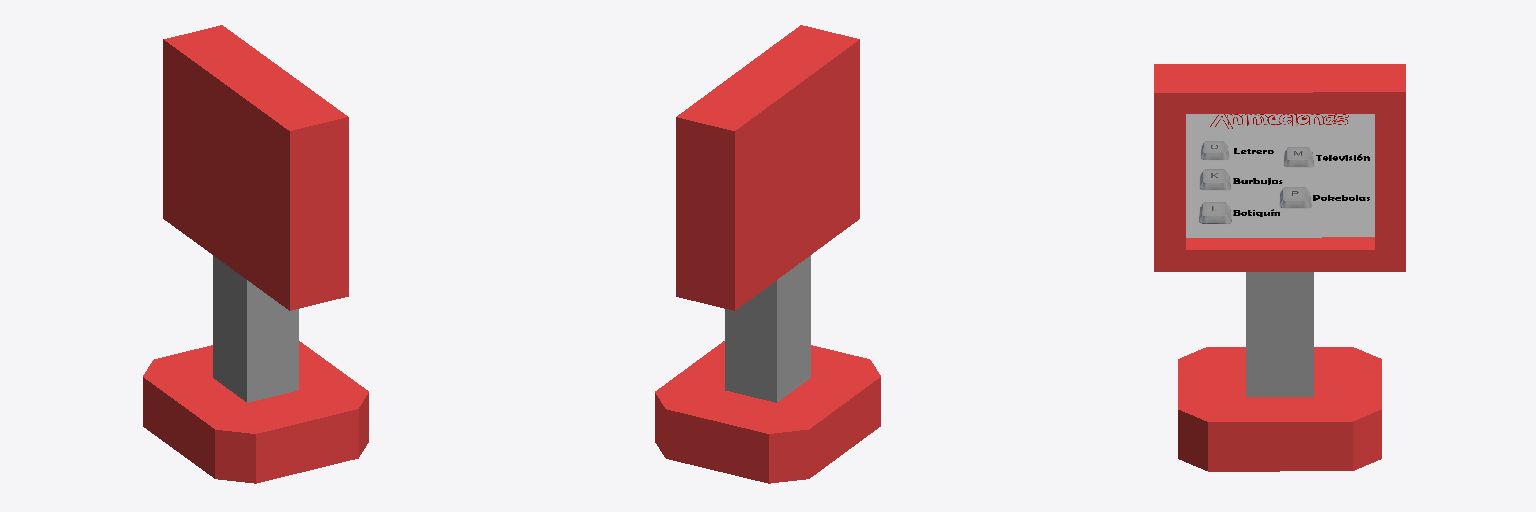
3 renders of one model, left to right at view 1: azimuth 30°, elevation 25°; view 2: azimuth 150°, elevation 25°; view 3: azimuth 270°, elevation 25°, orthographic.
Visible parts, largest first — view 1: pokeLetrero:pCube3; view 2: pokeLetrero:pCube3; view 3: pokeLetrero:pCube3.
Boxes of the visible parts, x1,y1,x2,y2 form: pokeLetrero:pCube3: [143, 25, 368, 483]; pokeLetrero:pCube3: [655, 25, 880, 483]; pokeLetrero:pCube3: [1154, 64, 1405, 471].
Bounding box in the file's own units: 1.79 × 3.94 × 2.52.
Materials: 4 (3 with a texture image).